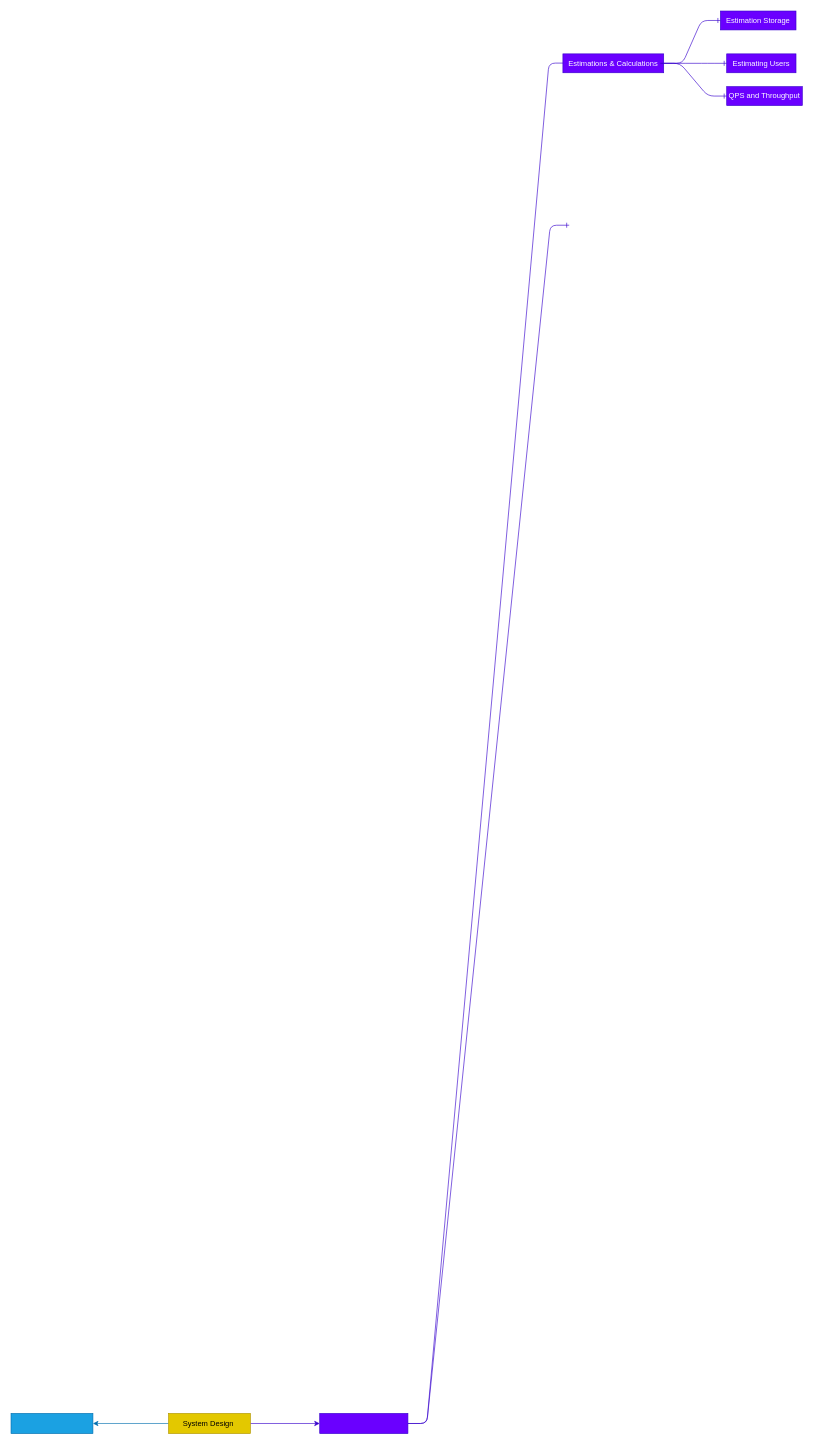
The diagram is 813 pixels wide and 1445 high, and some of its shapes have lost their labels. The box of each missing label's shape, as (x1, y1, x2, y2) in pixels:
High Level Design HLD: (319, 1413, 408, 1434)
Low Level Design LLD: (10, 1413, 93, 1434)
